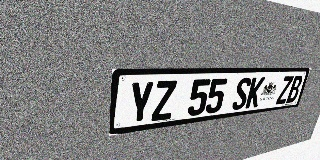5: (187, 79, 211, 117), (205, 78, 228, 114)
B: (286, 76, 304, 103)
K: (245, 77, 265, 109)
S: (231, 77, 252, 111)
Y: (127, 81, 155, 125)
Z: (151, 80, 177, 121), (275, 76, 294, 104)
